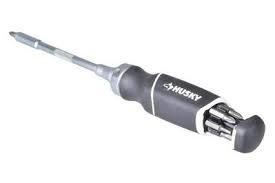screwdriver: (14, 29, 265, 154), (217, 101, 242, 119), (209, 106, 234, 122), (8, 29, 16, 36)
